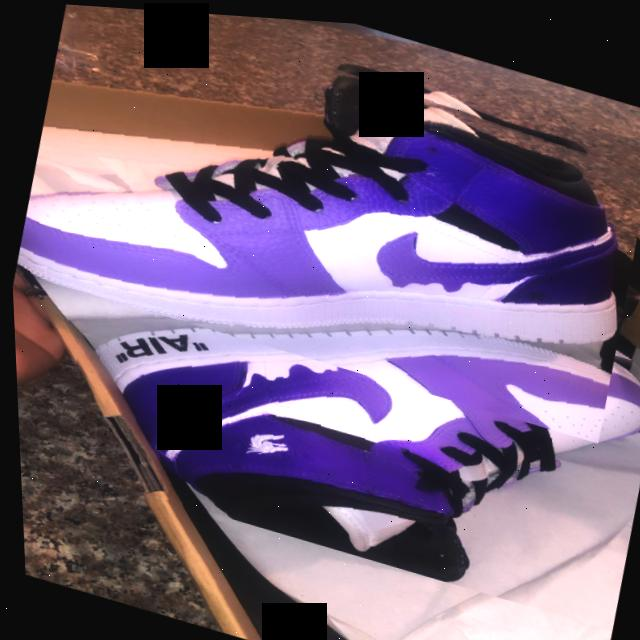shoe: (2, 0, 640, 439), (38, 188, 640, 625)
